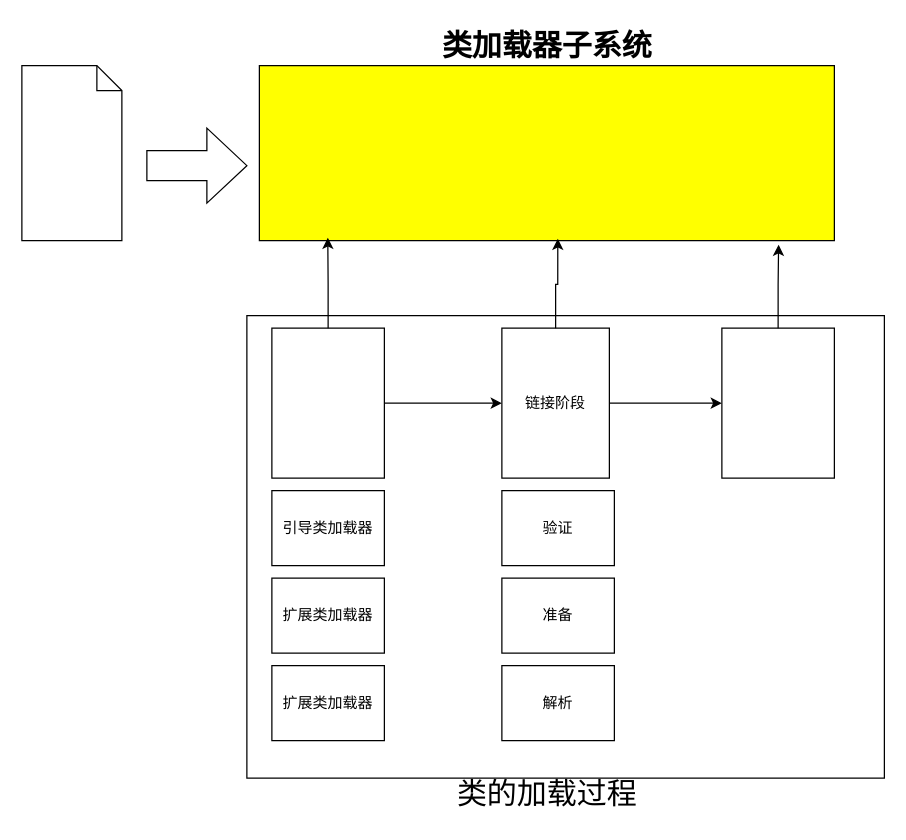
This 906x840 diagram has some shape labels left out. The centre of each missing label's shape, as x and y in pixels:
j加载阶段: the point at 327,402
初始化阶段: the point at 777,402
字节码文件: the point at 71,152
